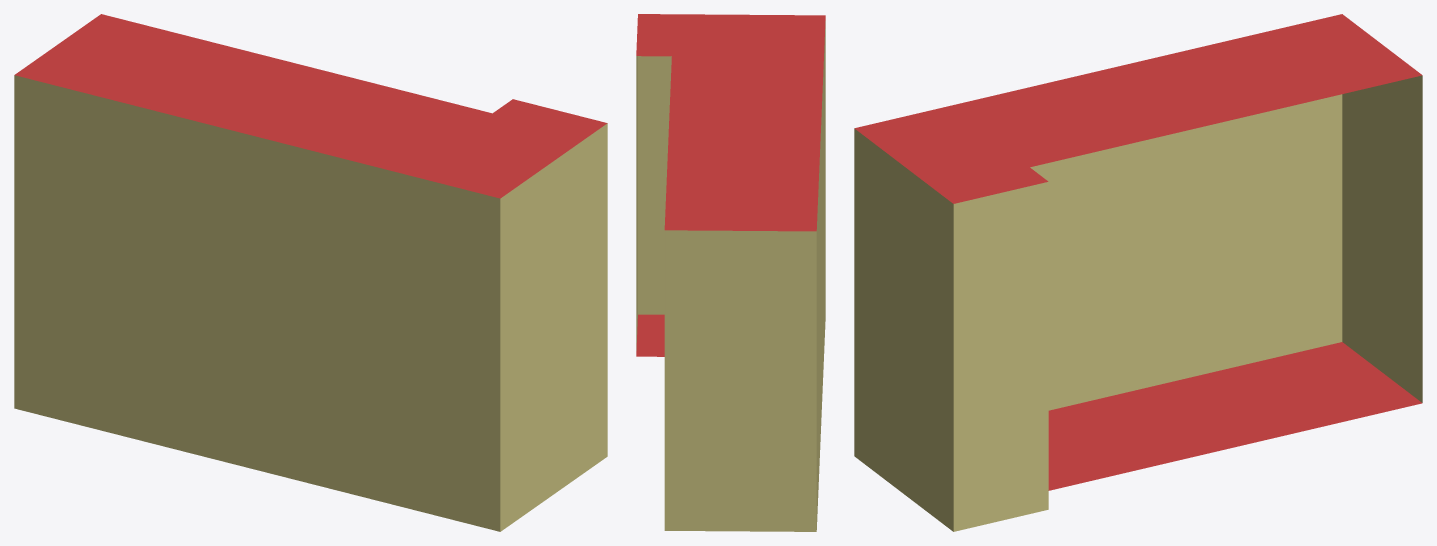
The picture shows the model from 3 angles, left to right: view 1: azimuth 30°, elevation 25°; view 2: azimuth 150°, elevation 25°; view 3: azimuth 270°, elevation 25°; orthographic projection. The views are drawn at different scales.
Size of the model in its own units: 7.34 by 9.28 by 5.91.
